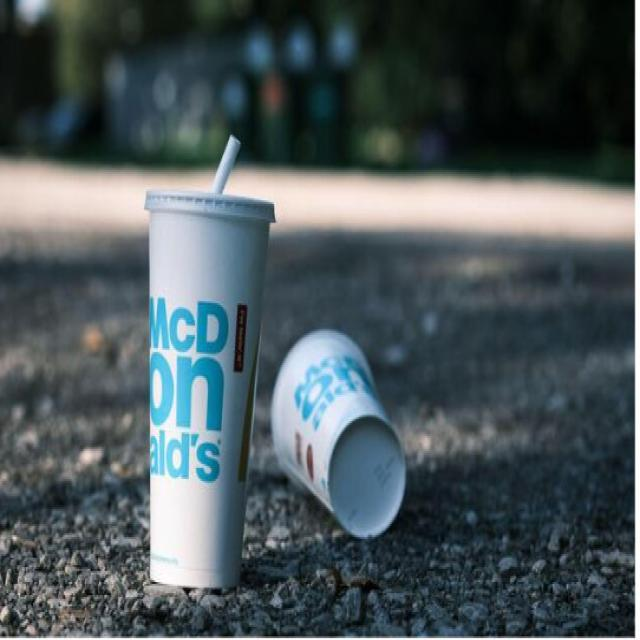trash: (136, 123, 270, 612), (278, 280, 409, 546)
